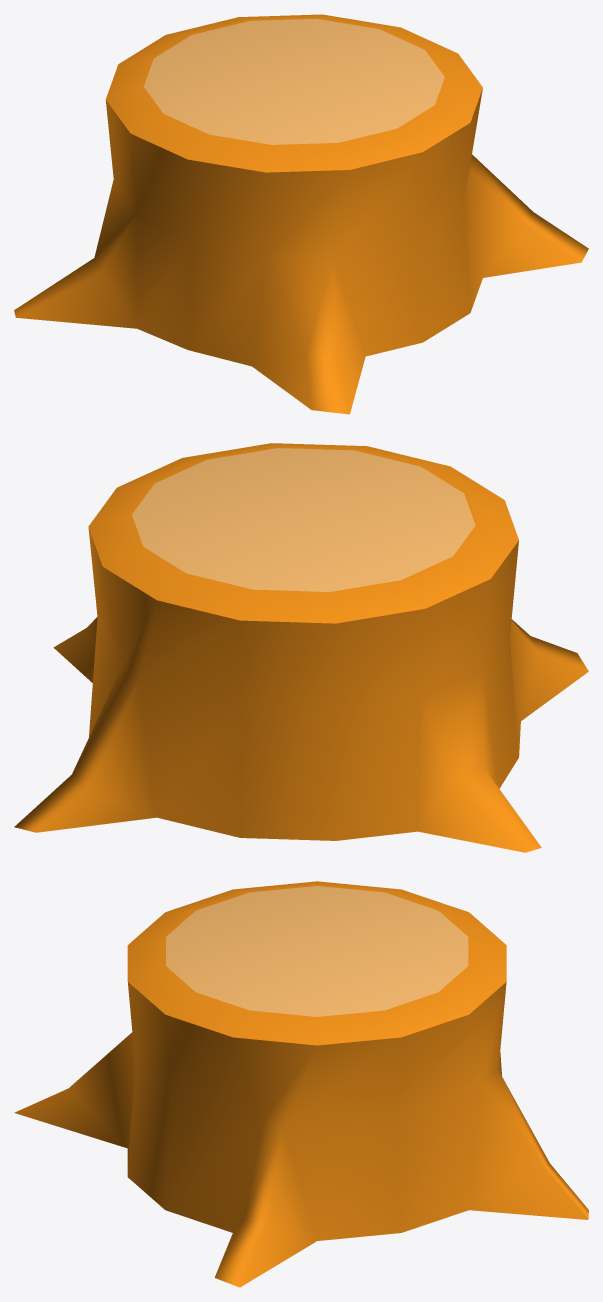
The model's file is tree_stump.fbx.
3 renders of one model, top to bottom at view 1: azimuth 30°, elevation 25°; view 2: azimuth 150°, elevation 25°; view 3: azimuth 270°, elevation 25°, orthographic. The views are drawn at different scales.
Visible parts, largest first — view 1: tree_stump; view 2: tree_stump; view 3: tree_stump.
Boxes of the visible parts, x1=… form: tree_stump: x1=14, y1=14, x2=588, y2=414; tree_stump: x1=14, y1=443, x2=588, y2=852; tree_stump: x1=14, y1=881, x2=588, y2=1287.
Bounding box in the file's own units: 5.8 × 2.24 × 5.62.
